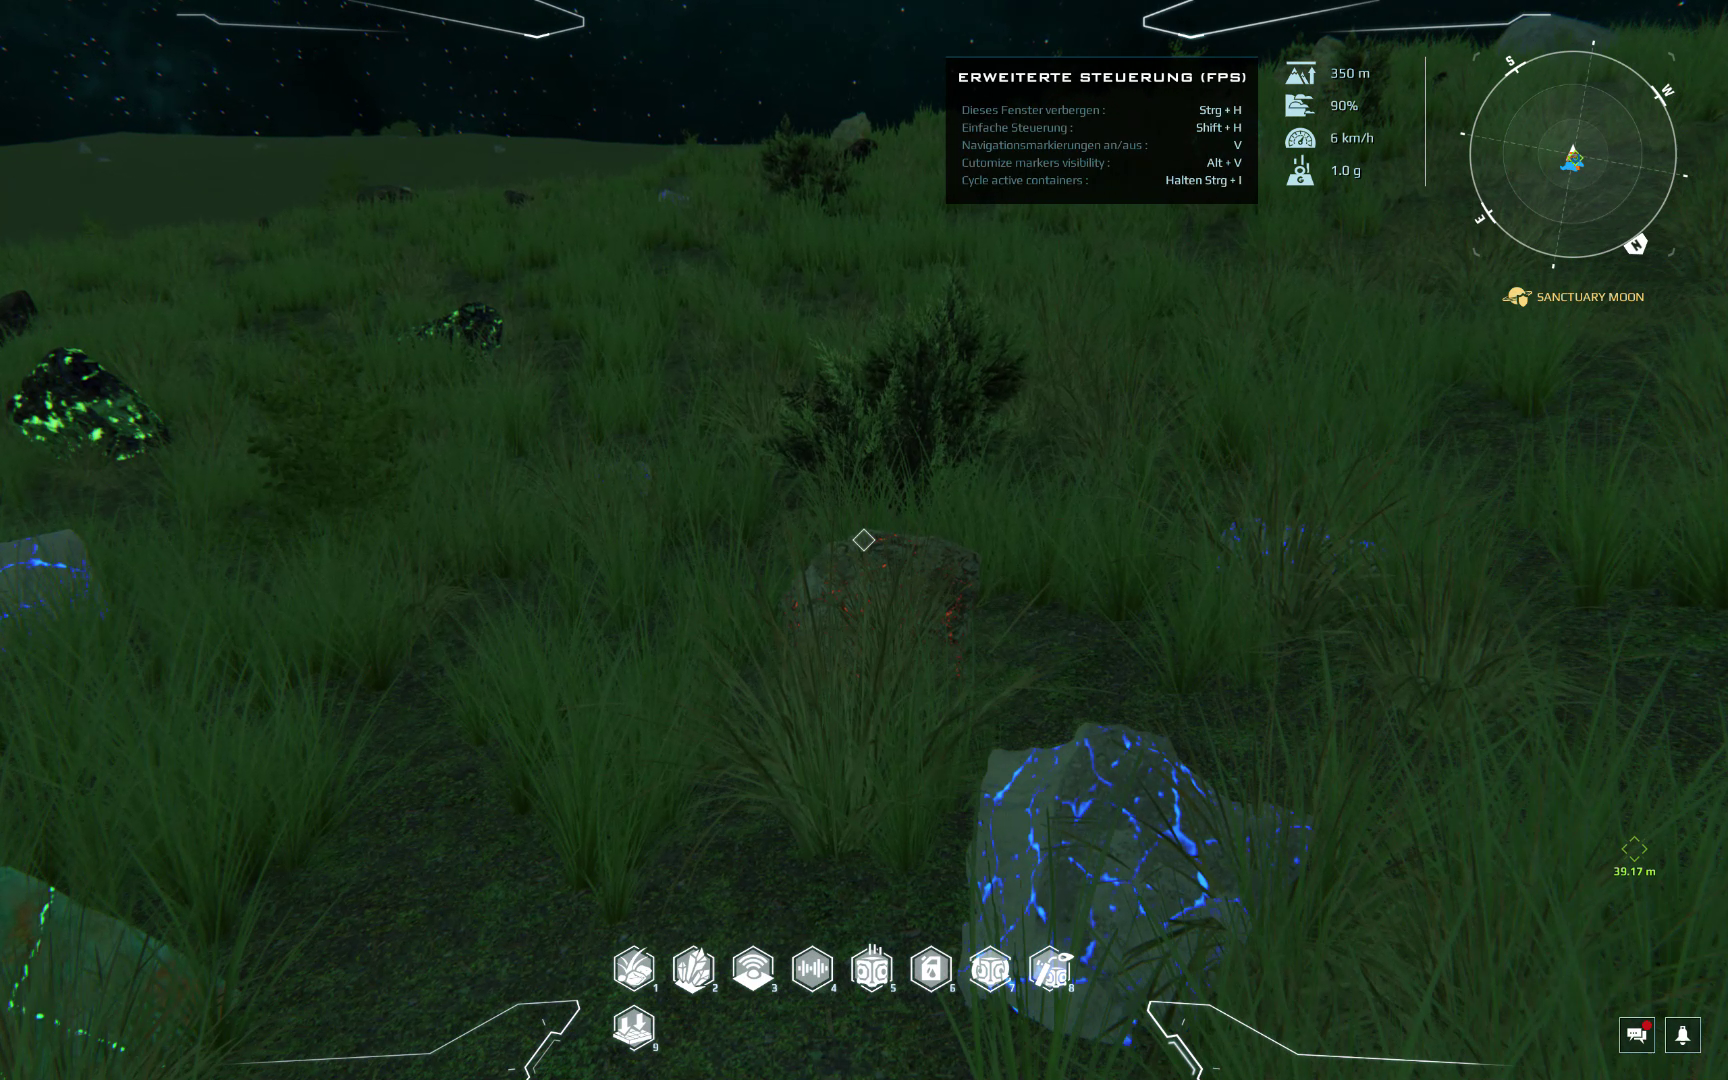Ore: (955, 719, 1326, 1055), (1, 862, 246, 1074), (770, 513, 980, 720), (9, 342, 175, 467), (1205, 500, 1403, 594), (5, 526, 109, 647), (393, 297, 510, 366), (350, 175, 422, 208), (647, 179, 705, 213), (5, 291, 40, 346), (501, 187, 539, 209)
